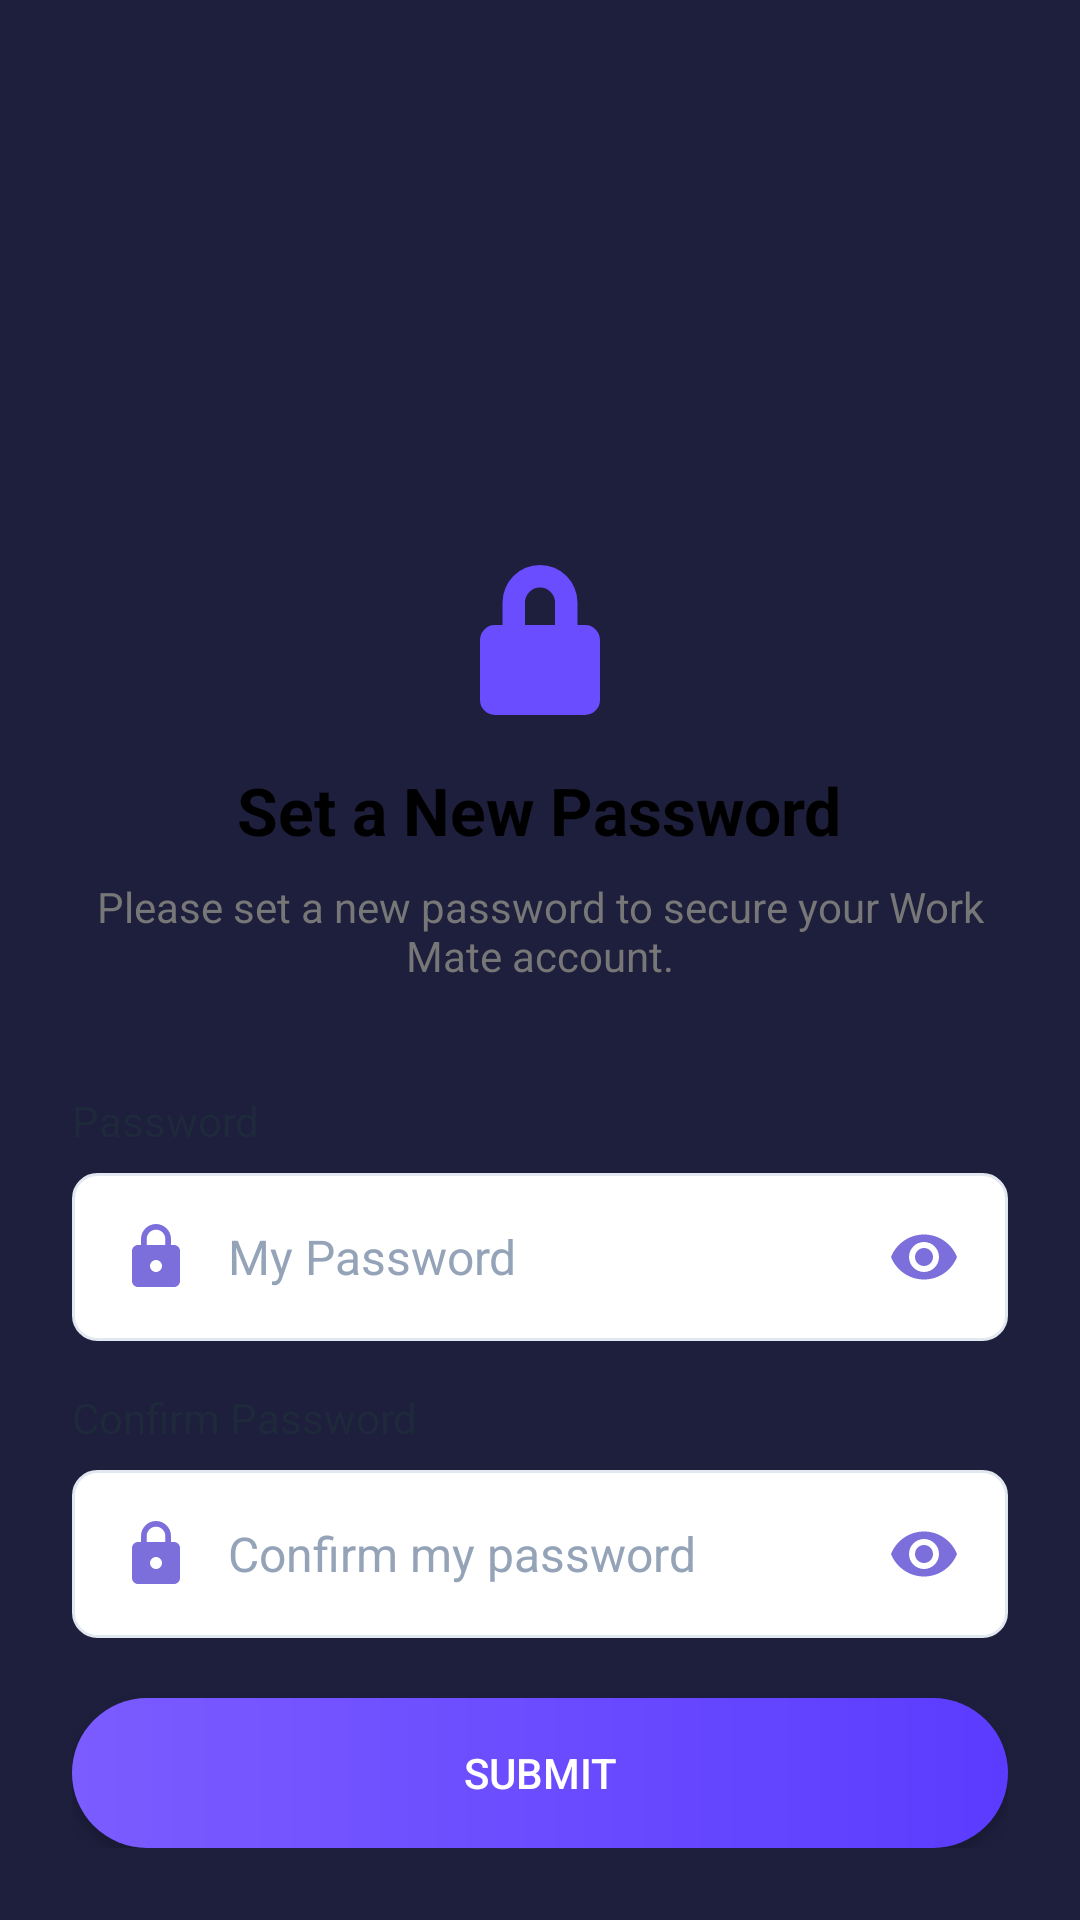

Where to tap for icons on this 1080w x 1920h app screen, as [x,y]:
lock: [540,640]
visibility: [924,1257], [924,1554]
